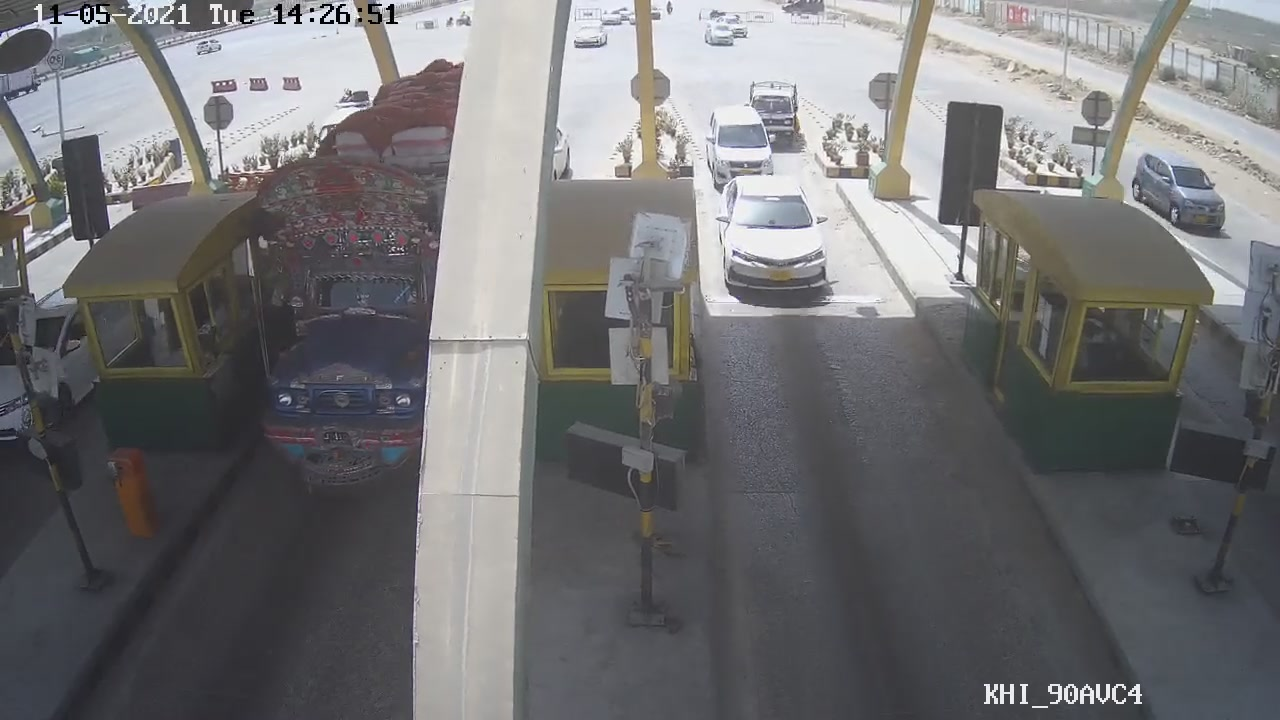F1: (706, 171, 847, 306)
